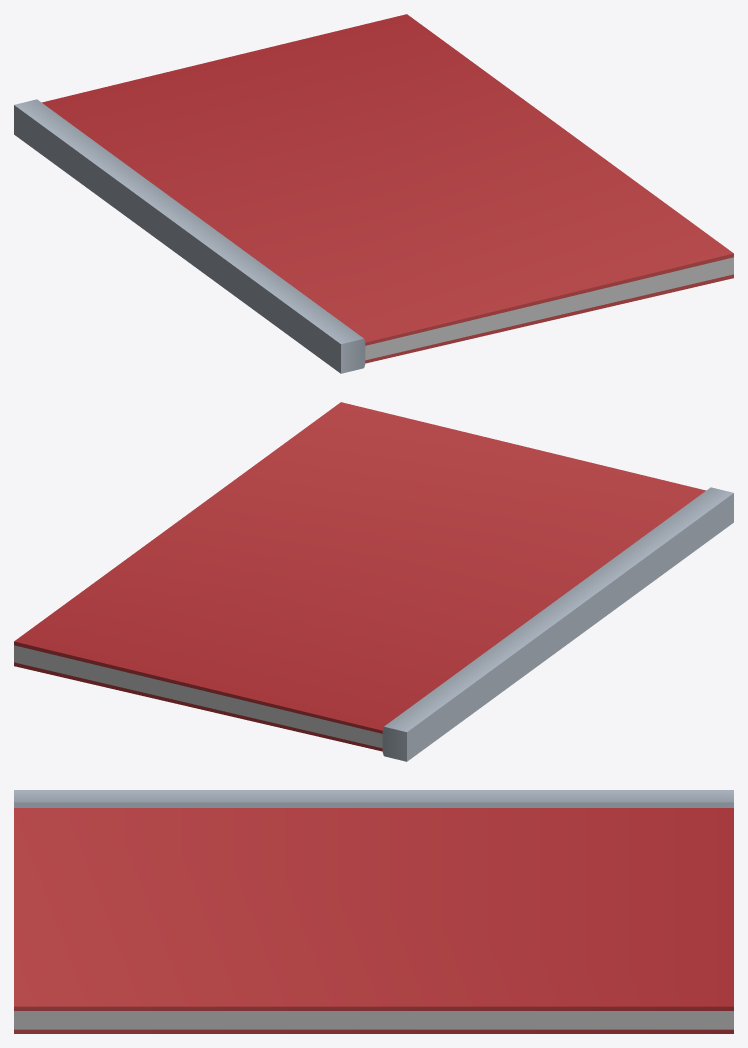
The model's file is NoteBook1.fbx.
3 renders of one model, top to bottom at view 1: azimuth 30°, elevation 25°; view 2: azimuth 150°, elevation 25°; view 3: azimuth 270°, elevation 25°, orthographic. The views are drawn at different scales.
Visible parts, largest first — view 1: Plane.003; view 2: Plane.003; view 3: Plane.003.
Part boxes in pixels (bbox=[...]): Plane.003: bbox=[14, 14, 733, 373]; Plane.003: bbox=[14, 402, 733, 761]; Plane.003: bbox=[14, 790, 733, 1033].
Bounding box in the file's own units: 41.63 × 3.01 × 60.
